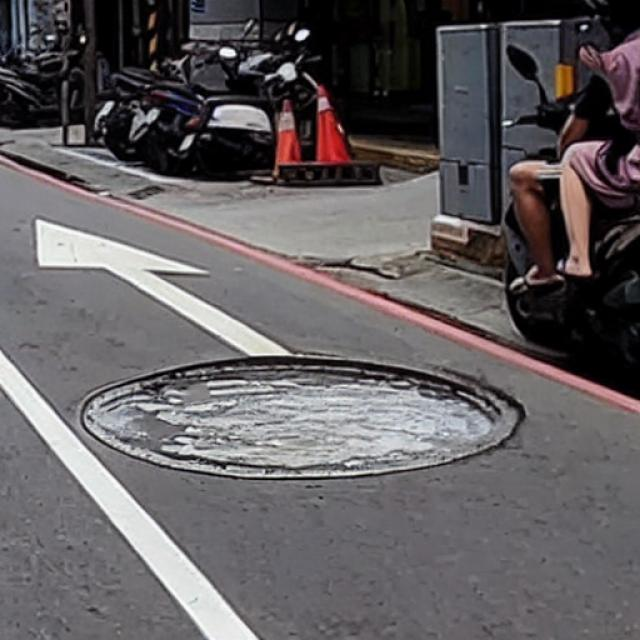puddle: (81, 358, 523, 479)
